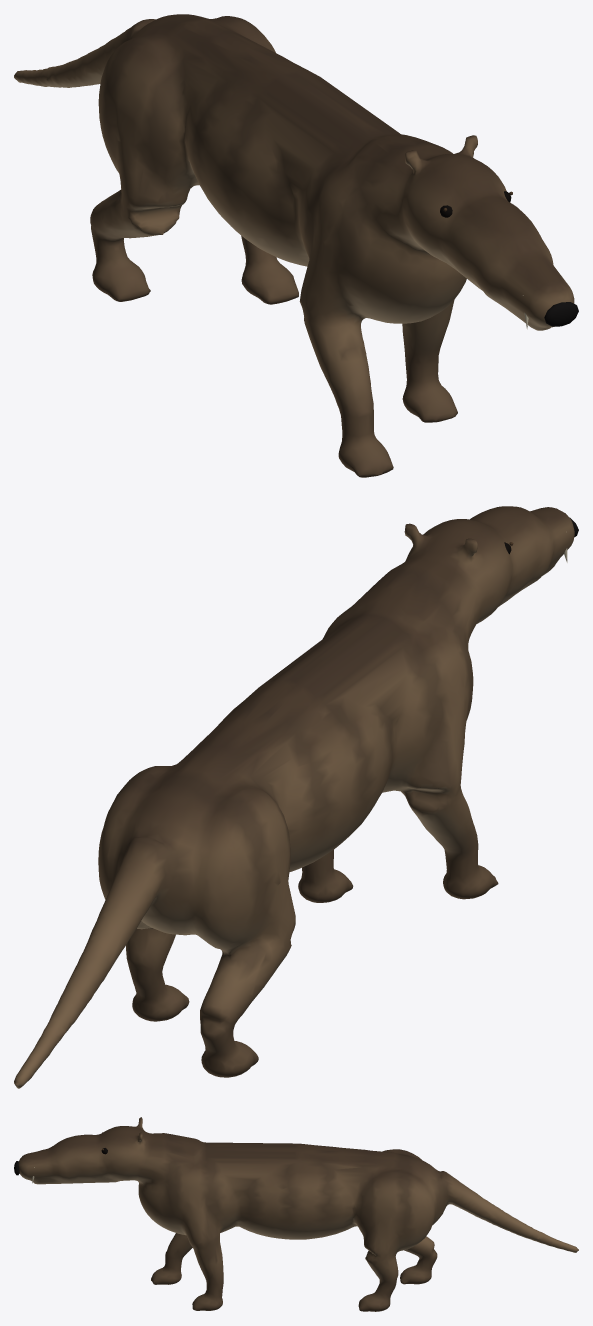
File: SimbakubwaKutokaafrika.fbx
The picture shows the model from 3 angles, top to bottom: view 1: azimuth 30°, elevation 25°; view 2: azimuth 150°, elevation 25°; view 3: azimuth 270°, elevation 25°; orthographic projection. The views are drawn at different scales.
Visible parts, largest first — view 1: SimbakubwaKutokaafrika; view 2: SimbakubwaKutokaafrika; view 3: SimbakubwaKutokaafrika.
Part boxes in pixels (<box>): SimbakubwaKutokaafrika: <box>14,14,578,477</box>; SimbakubwaKutokaafrika: <box>14,506,578,1088</box>; SimbakubwaKutokaafrika: <box>14,1117,578,1311</box>.
Bounding box in the file's own units: 0.4273 × 0.8219 × 2.47.
